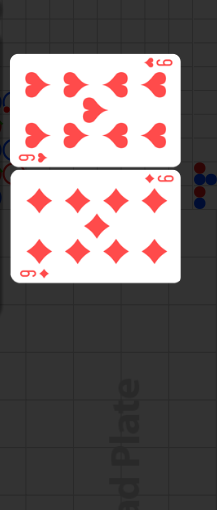9D: (19, 267, 51, 279)
9H: (17, 151, 48, 164)
